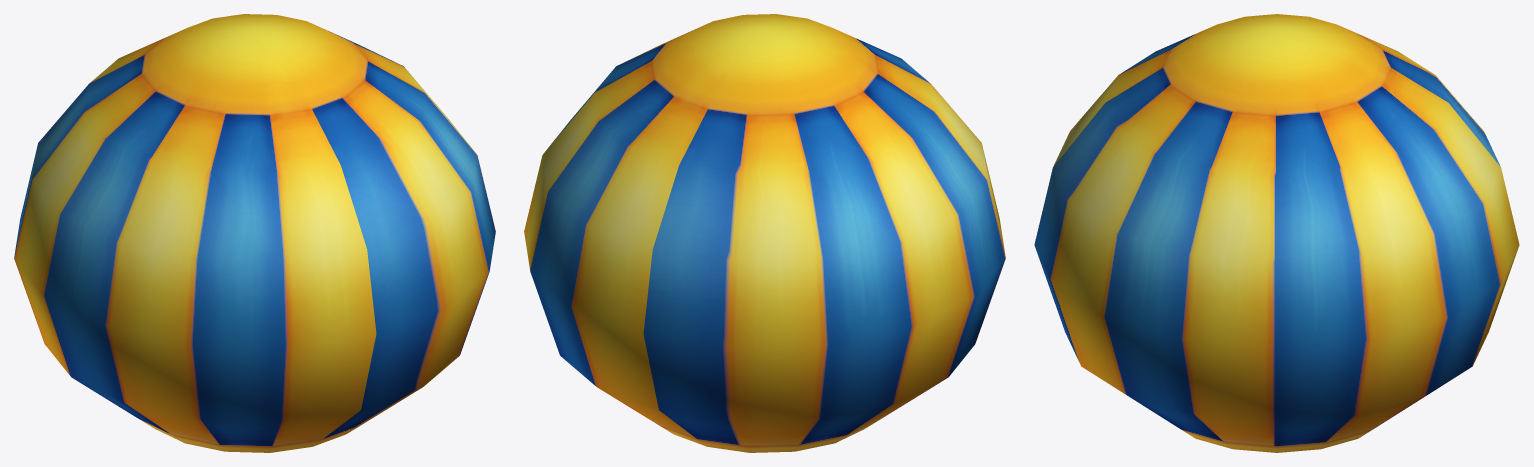
Rendered from a_SWAball02.glb.
The picture shows the model from 3 angles, left to right: view 1: azimuth 30°, elevation 25°; view 2: azimuth 150°, elevation 25°; view 3: azimuth 270°, elevation 25°; orthographic projection.
Parts seen in each view (by area): view 1: a_SWAball02; view 2: a_SWAball02; view 3: a_SWAball02.
Boxes of the visible parts, x1,y1,x2,y2 form: a_SWAball02: (14,14,495,452); a_SWAball02: (524,14,1005,452); a_SWAball02: (1034,14,1519,452).
Size of the model in its own units: 2.98 by 2.52 by 2.98.
1 material, 1 textured.
